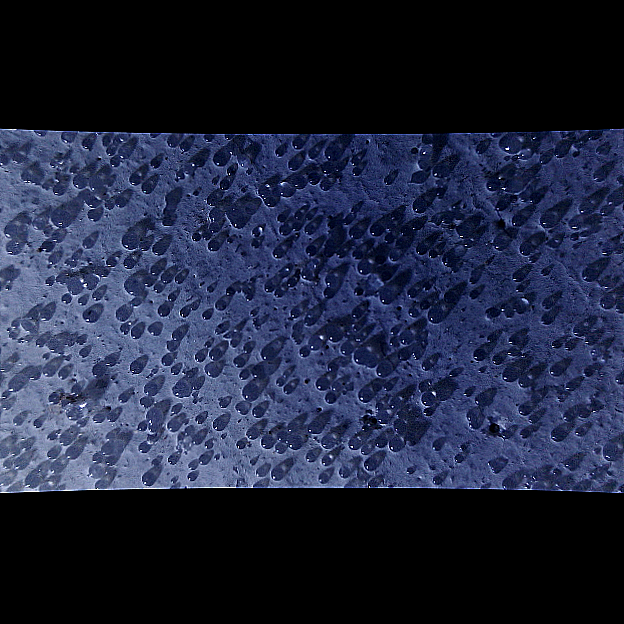GrassBeadSeg: (37, 132, 614, 445), (32, 160, 623, 461), (25, 152, 550, 486), (93, 156, 575, 483), (93, 189, 623, 462), (3, 153, 484, 449), (144, 147, 623, 443), (0, 226, 560, 475), (74, 136, 543, 431), (61, 216, 582, 460), (49, 183, 531, 442), (45, 163, 447, 473), (20, 274, 596, 483), (68, 174, 465, 462), (89, 196, 501, 472), (102, 177, 487, 465), (0, 281, 574, 469), (35, 179, 603, 355), (41, 215, 414, 474), (126, 143, 527, 382), (89, 168, 449, 423), (84, 241, 490, 465), (85, 305, 566, 478), (239, 214, 564, 470), (181, 274, 618, 461), (147, 242, 567, 432), (303, 172, 576, 460), (174, 219, 530, 437), (52, 161, 334, 433), (71, 297, 553, 455), (0, 280, 430, 455), (271, 145, 557, 406), (135, 245, 491, 453), (0, 153, 275, 421), (45, 216, 361, 449), (43, 311, 539, 459), (105, 288, 477, 477), (218, 242, 566, 441), (233, 199, 508, 449), (341, 148, 623, 384), (91, 264, 382, 490), (126, 184, 458, 377), (81, 174, 323, 433), (178, 289, 553, 456), (95, 197, 425, 386), (215, 139, 611, 296), (40, 167, 606, 276), (97, 306, 499, 455), (274, 177, 499, 439), (114, 226, 445, 402), (48, 186, 499, 306), (148, 266, 598, 386), (64, 280, 403, 438), (119, 256, 378, 461), (138, 183, 336, 449), (138, 194, 316, 485), (23, 387, 515, 490), (96, 275, 478, 407), (112, 200, 373, 391), (8, 208, 224, 435), (252, 290, 503, 477), (97, 177, 247, 483), (46, 253, 587, 337), (164, 137, 302, 465), (202, 243, 533, 377), (209, 213, 526, 352), (147, 131, 297, 424), (214, 300, 443, 484), (66, 139, 196, 462), (273, 147, 412, 440), (273, 212, 443, 451), (376, 135, 521, 414), (9, 280, 272, 427), (334, 248, 601, 387), (191, 253, 457, 390), (163, 135, 623, 213), (116, 357, 464, 460), (297, 267, 578, 392), (56, 349, 408, 448), (460, 283, 623, 490), (355, 266, 598, 402), (136, 154, 314, 338), (143, 181, 343, 343), (287, 306, 589, 412), (111, 151, 227, 424), (248, 365, 563, 465), (334, 272, 560, 405), (38, 249, 285, 367), (42, 277, 585, 330), (169, 329, 404, 451), (298, 309, 511, 439), (158, 272, 394, 388), (300, 221, 614, 308), (258, 368, 594, 448), (463, 302, 623, 469), (247, 239, 435, 370), (47, 230, 162, 443), (209, 222, 551, 290), (276, 188, 613, 256), (118, 233, 363, 319), (253, 242, 413, 372), (185, 335, 324, 470), (17, 415, 387, 465), (0, 367, 155, 484), (134, 258, 259, 402), (101, 221, 383, 284), (440, 132, 591, 248), (101, 223, 221, 366), (201, 340, 389, 431), (371, 400, 602, 473), (360, 366, 518, 470), (488, 213, 590, 372), (389, 337, 601, 410), (0, 319, 100, 466), (124, 277, 210, 444), (257, 231, 367, 360), (89, 315, 316, 376), (428, 229, 534, 355), (183, 422, 406, 480), (405, 290, 532, 388), (308, 271, 390, 422), (386, 150, 527, 234), (179, 330, 415, 377), (286, 236, 456, 300), (41, 196, 99, 376), (0, 173, 139, 246), (336, 410, 484, 477), (1, 336, 87, 447), (99, 231, 208, 316), (59, 277, 149, 378), (244, 145, 390, 205), (424, 247, 536, 324), (336, 144, 524, 185), (78, 194, 220, 248), (133, 407, 434, 432), (175, 396, 402, 429), (226, 166, 334, 235), (249, 278, 361, 341), (166, 340, 227, 454), (182, 369, 253, 463), (371, 346, 525, 389), (10, 129, 130, 182), (104, 131, 238, 177), (214, 402, 320, 458), (351, 308, 462, 360), (552, 131, 620, 215), (91, 323, 150, 416), (515, 131, 543, 311), (235, 371, 340, 417), (209, 417, 284, 480), (232, 277, 300, 344), (78, 306, 143, 375), (3, 223, 76, 280), (322, 272, 519, 293), (5, 281, 70, 344), (323, 384, 366, 478), (6, 342, 88, 391), (322, 144, 342, 326), (22, 176, 106, 217), (130, 329, 204, 373), (203, 238, 224, 360), (239, 343, 367, 362), (0, 325, 39, 384), (414, 280, 432, 392), (186, 283, 246, 314), (214, 307, 257, 345), (351, 352, 391, 390), (475, 406, 589, 418), (522, 469, 596, 487), (233, 287, 282, 308), (130, 360, 160, 394), (488, 337, 520, 364), (509, 335, 559, 348), (155, 283, 160, 284)
